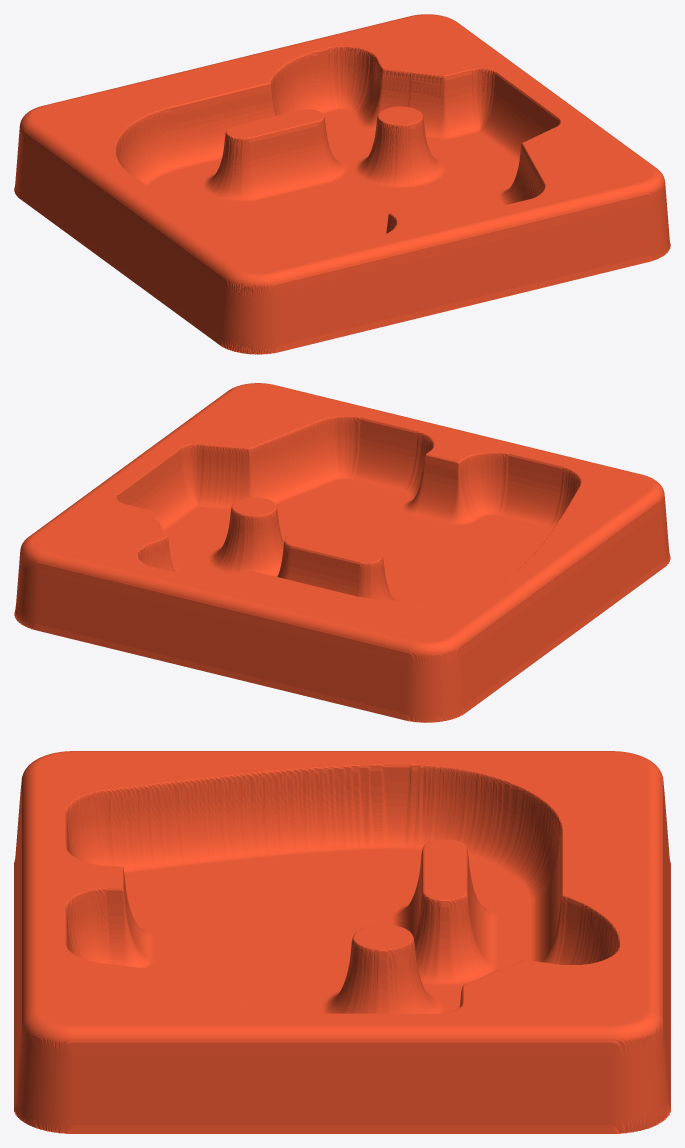
File: mold.glb
3 views of the same model, one above another, from view 1: azimuth 30°, elevation 25°; view 2: azimuth 150°, elevation 25°; view 3: azimuth 270°, elevation 25° (orthographic). The views are drawn at different scales.
Visible parts, largest first — view 1: geometry_0; view 2: geometry_0; view 3: geometry_0.
Boxes of the visible parts, left/top/right/bottom form: geometry_0: left=14, top=14, right=670, bottom=354; geometry_0: left=14, top=383, right=670, bottom=722; geometry_0: left=14, top=751, right=670, bottom=1133.
Bounding box in the file's own units: 0.105 × 0.0165 × 0.0996.
